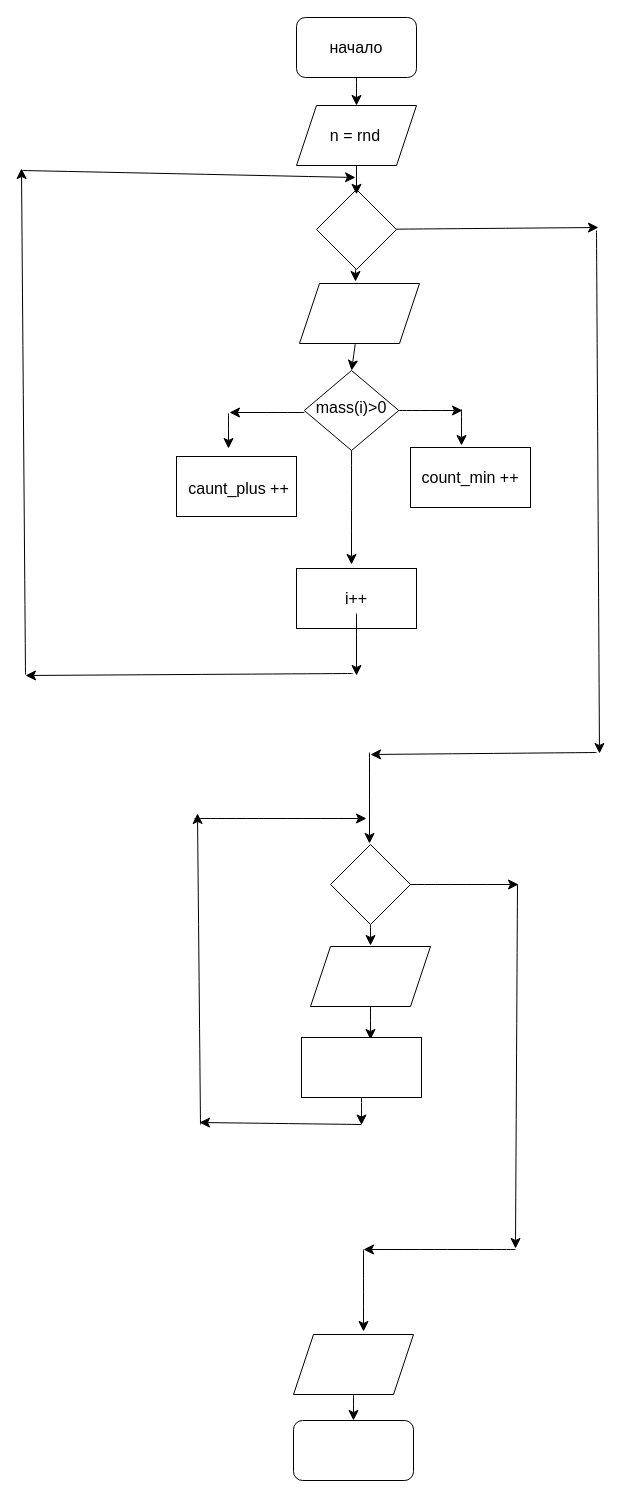
The diagram is 622 pixels wide and 1498 high, and some of its shapes have lost their labels. Each missing label, with the centre of its shape:
"i < n" belongs at pixel 356 229.
"mass(i)=rnd" belongs at pixel 359 313.
"Text" belongs at pixel 370 884.
